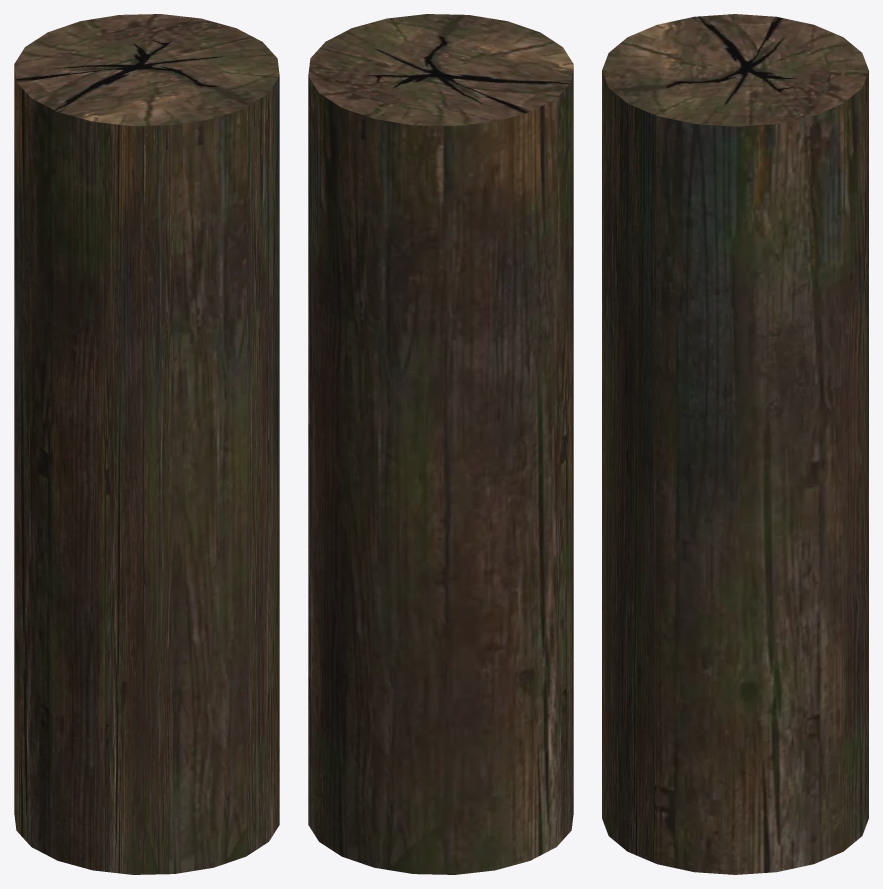
3 views of the same model, side by side, from view 1: azimuth 30°, elevation 25°; view 2: azimuth 150°, elevation 25°; view 3: azimuth 270°, elevation 25° (orthographic).
Visible parts, largest first — view 1: SM_BB_T1_Beam_Thick_Med_Diagonal_LOD0; view 2: SM_BB_T1_Beam_Thick_Med_Diagonal_LOD0; view 3: SM_BB_T1_Beam_Thick_Med_Diagonal_LOD0.
Boxes of the visible parts, box(x1,y1,x2,y2) form: SM_BB_T1_Beam_Thick_Med_Diagonal_LOD0: box(14, 14, 279, 874); SM_BB_T1_Beam_Thick_Med_Diagonal_LOD0: box(308, 14, 573, 874); SM_BB_T1_Beam_Thick_Med_Diagonal_LOD0: box(602, 14, 868, 874).
Size of the model in its own units: 0.4877 by 1.51 by 0.4877.
